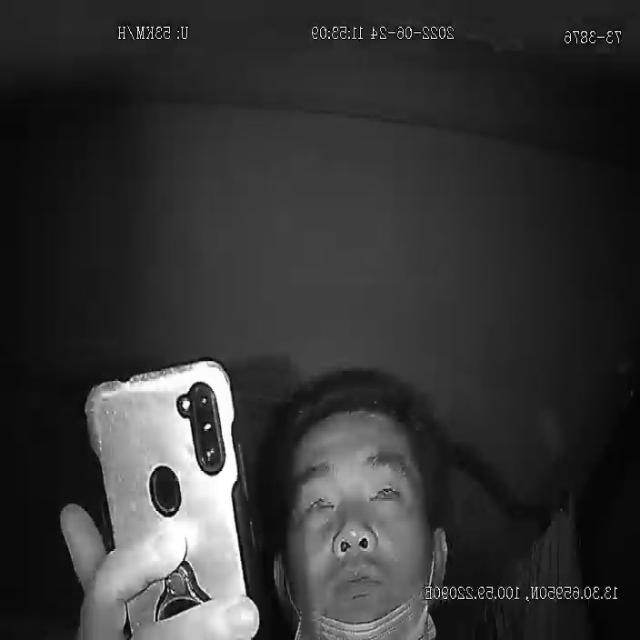phone: (85, 362, 259, 640)
